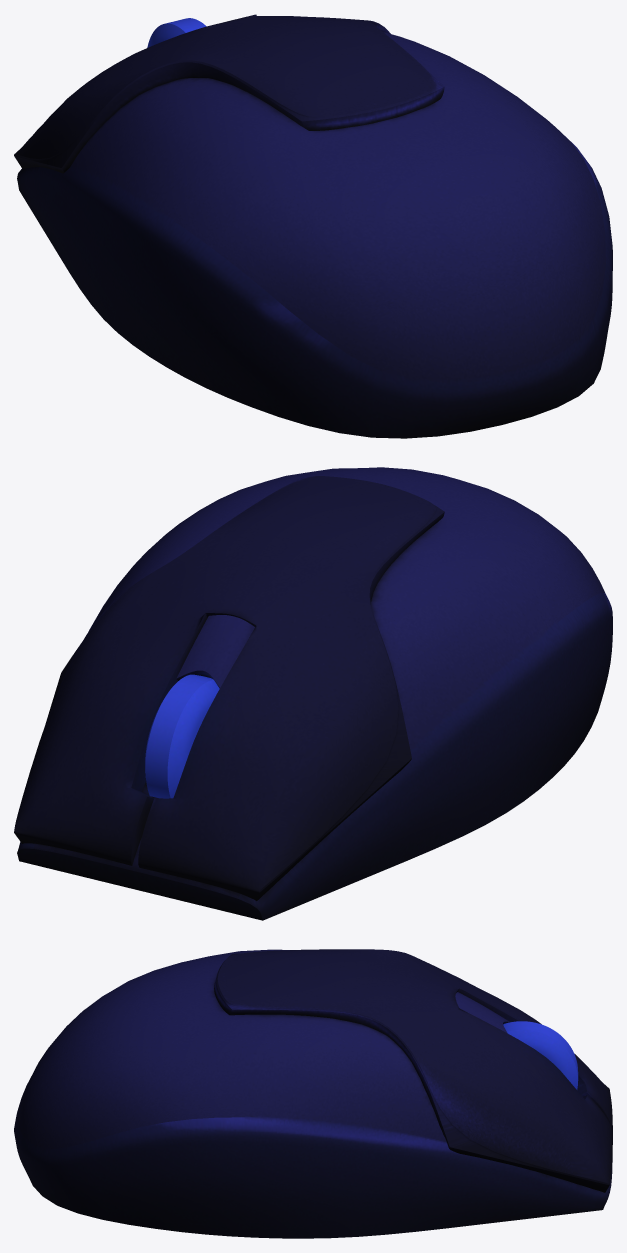
Rendered from pc_mouse.dae.
3 renders of one model, top to bottom at view 1: azimuth 30°, elevation 25°; view 2: azimuth 150°, elevation 25°; view 3: azimuth 270°, elevation 25°, orthographic. The views are drawn at different scales.
Visible parts, largest first — view 1: pc_mouse_body; view 2: pc_mouse_body; view 3: pc_mouse_body.
Boxes of the visible parts, box(x1,y1,x2,y2) form: pc_mouse_body: box(14, 14, 612, 438); pc_mouse_body: box(14, 467, 612, 920); pc_mouse_body: box(14, 949, 612, 1238).
Size of the model in its own units: 0.0772 by 0.043 by 0.1218.
